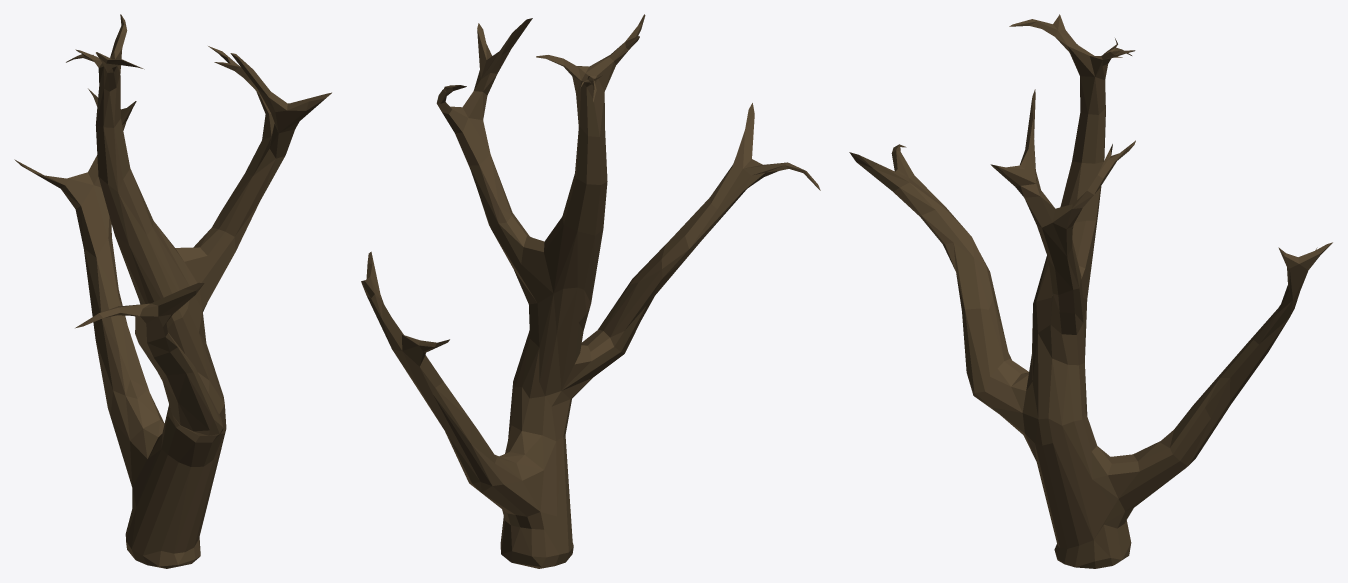
File: Tree 3.fbx
3 views of the same model, side by side, from view 1: azimuth 30°, elevation 25°; view 2: azimuth 150°, elevation 25°; view 3: azimuth 270°, elevation 25° (orthographic). The views are drawn at different scales.
Parts seen in each view (by area): view 1: Willow_bear; view 2: Willow_bear; view 3: Willow_bear.
Part boxes in pixels (left/top/right/bottom): Willow_bear: left=14, top=14, right=331, bottom=568; Willow_bear: left=361, top=14, right=820, bottom=568; Willow_bear: left=849, top=14, right=1332, bottom=568.
Size of the model in its own units: 726 by 1233 by 1068.
